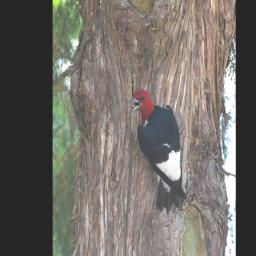Woodpecker: (125, 84, 191, 214)
